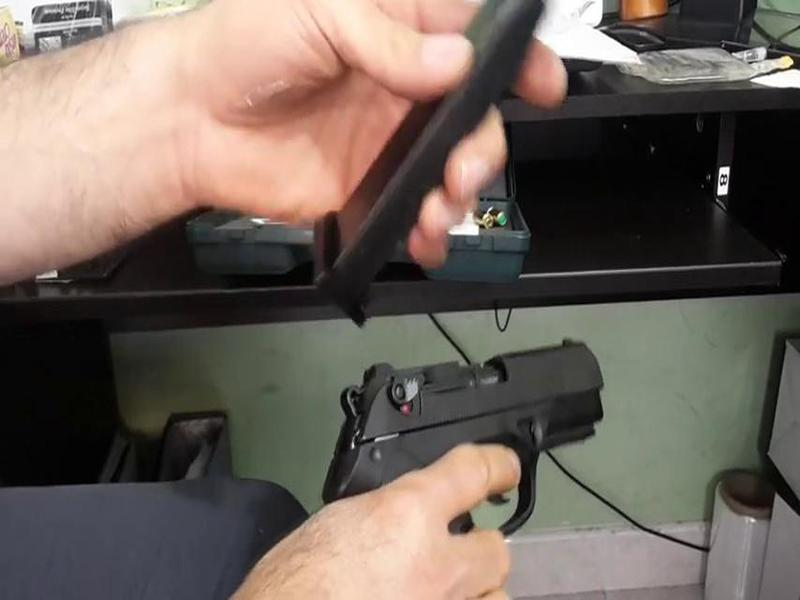Pistola: (316, 331, 616, 541)
